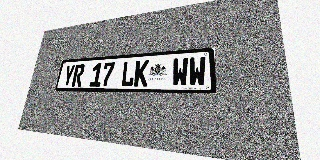1: (89, 63, 104, 87)
7: (100, 62, 115, 87)
K: (134, 60, 149, 86)
L: (120, 61, 136, 87)
R: (71, 64, 85, 87)
W: (189, 56, 206, 86), (172, 57, 188, 86)
Y: (62, 65, 75, 87)
